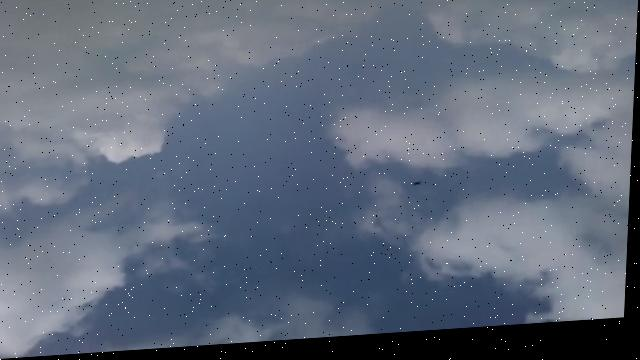drone: (412, 183, 429, 198)
